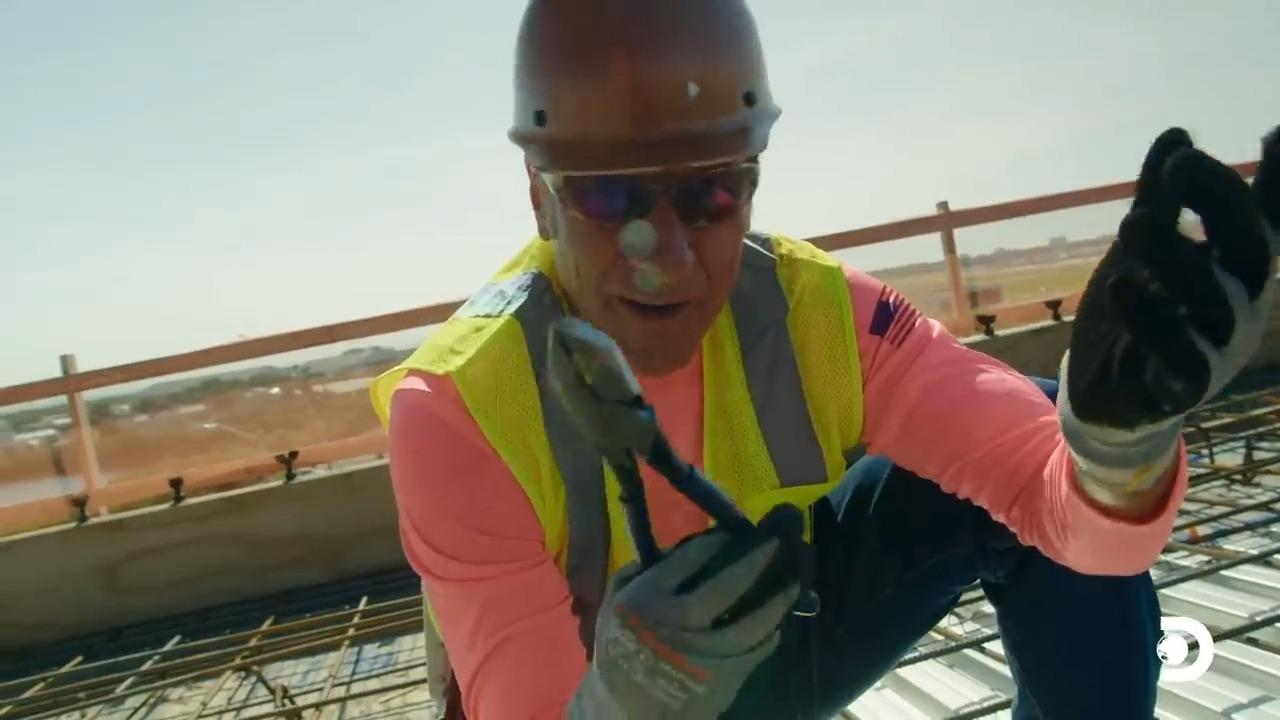Gloves: (1060, 125, 1280, 468), (579, 535, 820, 698)
Helmet: (506, 0, 781, 173)
Person: (368, 1, 1277, 718)
Safety Vest: (446, 280, 837, 511)
